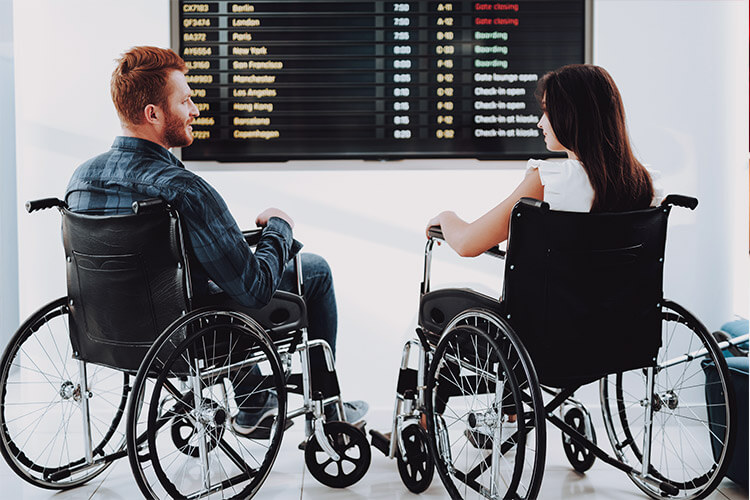wheelchair: (2, 44, 371, 500), (371, 63, 736, 500)
